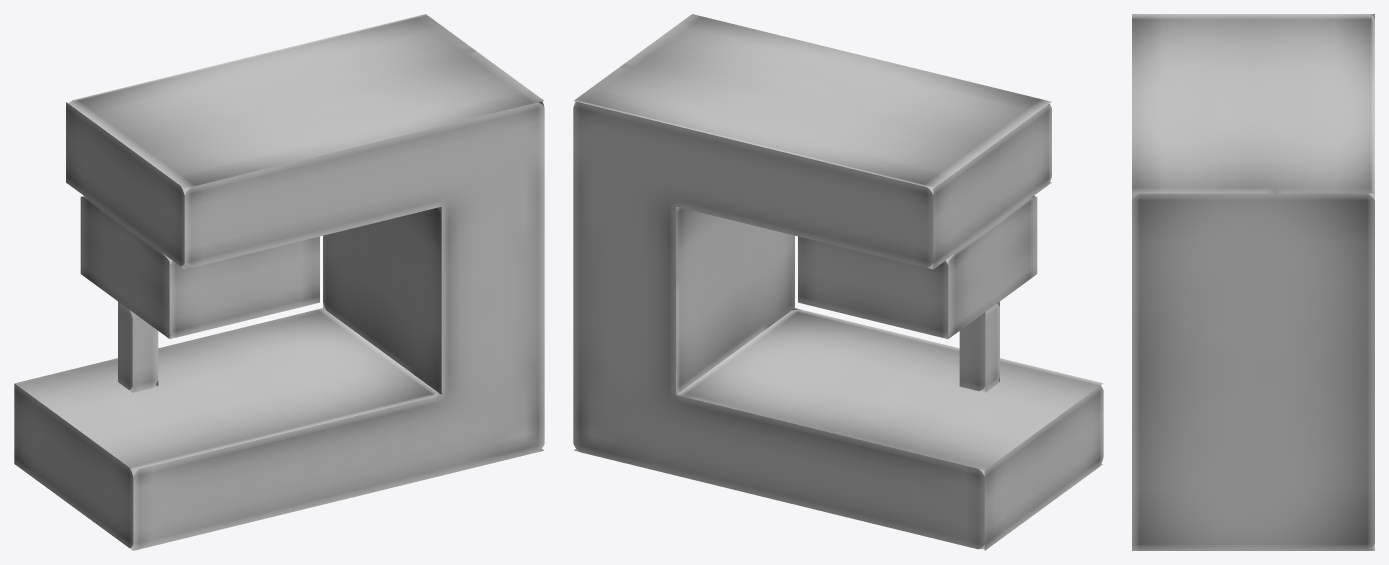
File: ss_sewingmachine.obj
3 views of the same model, side by side, from view 1: azimuth 30°, elevation 25°; view 2: azimuth 150°, elevation 25°; view 3: azimuth 270°, elevation 25° (orthographic). The views are drawn at different scales.
Visible parts, largest first — view 1: Mesh3_Group3_Model; view 2: Mesh3_Group3_Model; view 3: Mesh3_Group3_Model.
Part boxes in pixels (x1,y1,x2,y2): Mesh3_Group3_Model: (14, 14, 544, 550); Mesh3_Group3_Model: (573, 14, 1103, 550); Mesh3_Group3_Model: (1132, 14, 1374, 550).
Size of the model in its own units: 1 by 0.8125 by 0.5.
